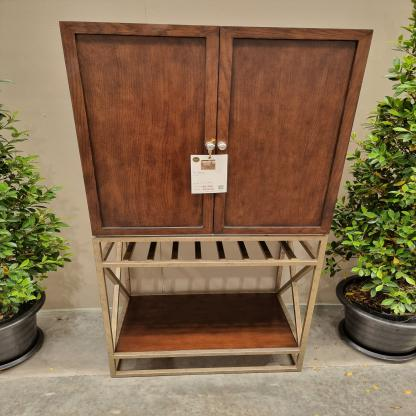Sideboard: (60, 22, 374, 379)
